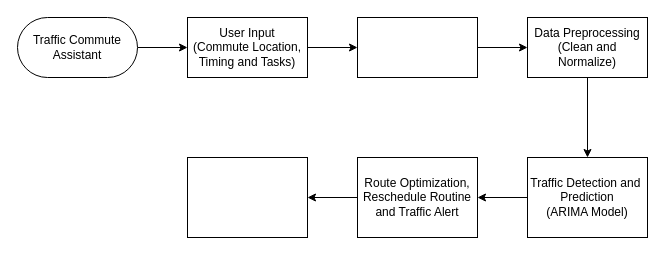
The diagram is 665 pixels wide and 255 high, and some of its shapes have lost their labels. The box of each missing label's shape, as (x1, y1, x2, y2) in pixels:
Traffic Data Collection (CCTV, Google API): (356, 16, 478, 78)
User Commutes Optimally: (186, 156, 308, 238)
